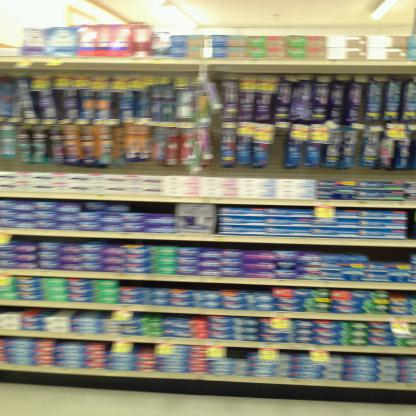Void: (372, 245, 408, 265), (133, 203, 172, 218), (224, 350, 247, 360), (137, 343, 152, 353)
